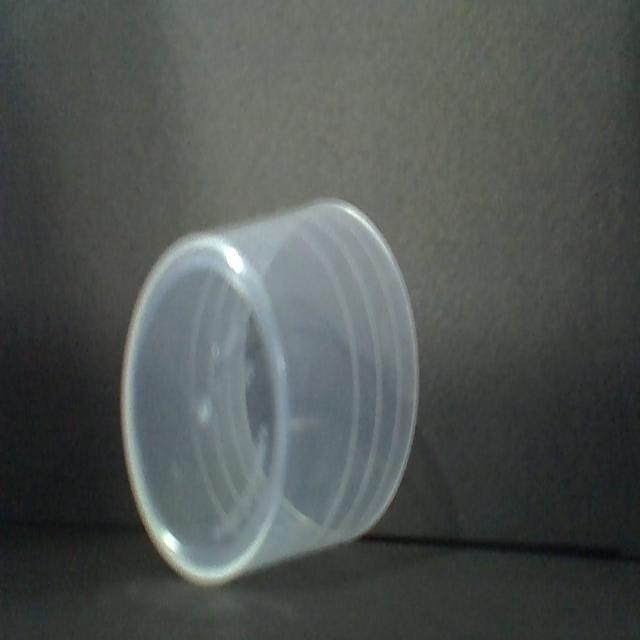cup: (119, 196, 422, 596)
